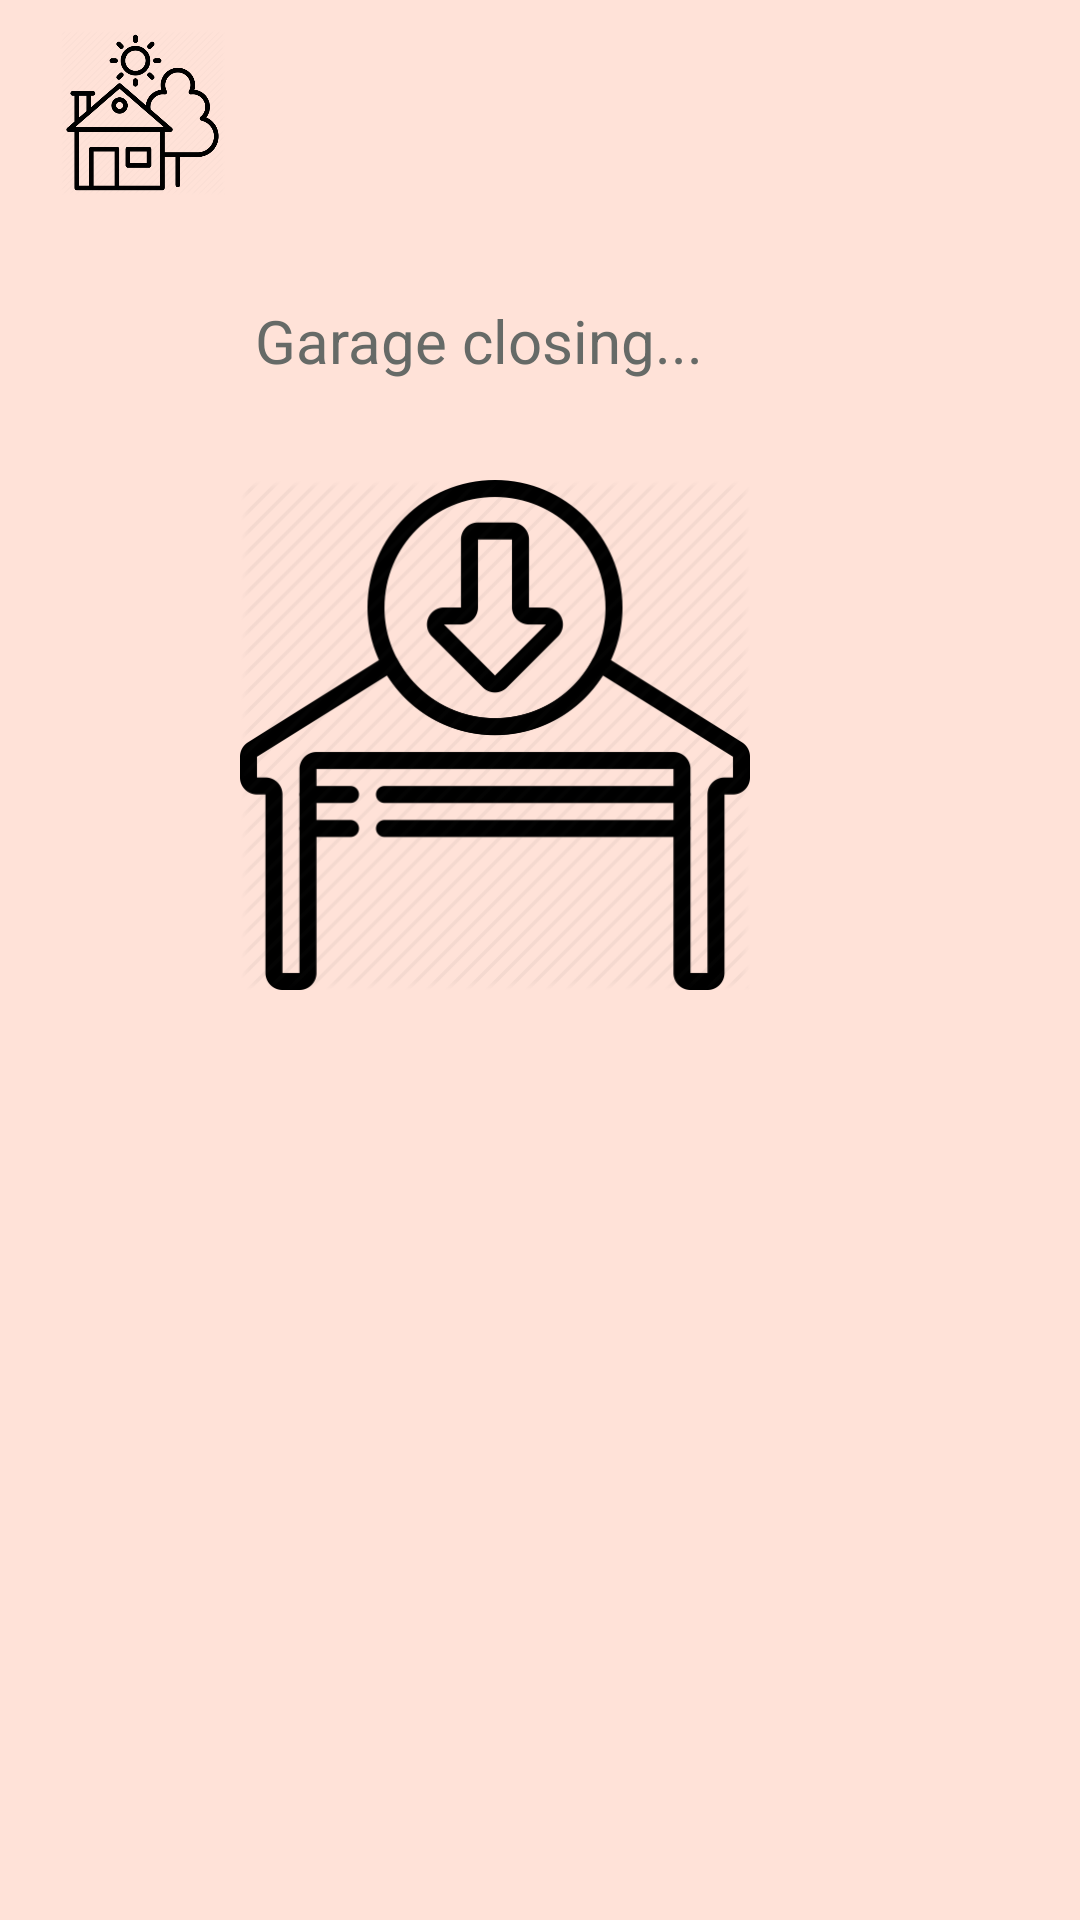

Where to tap for icons on this 1080w x 1920h app screen, as (x,y):
house: (142,112)
